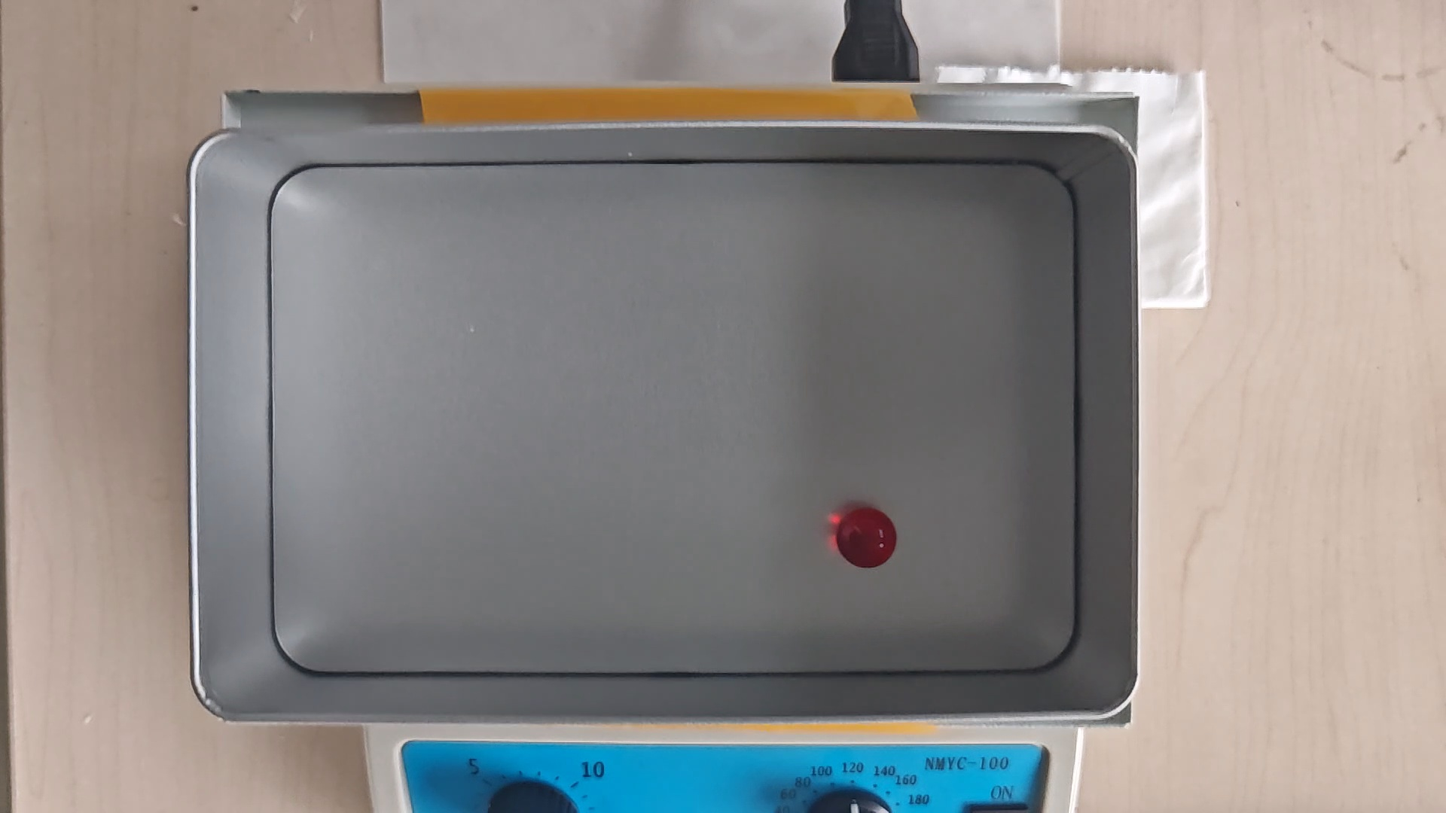ball: (837, 507, 901, 568)
container: (269, 165, 1076, 671)
